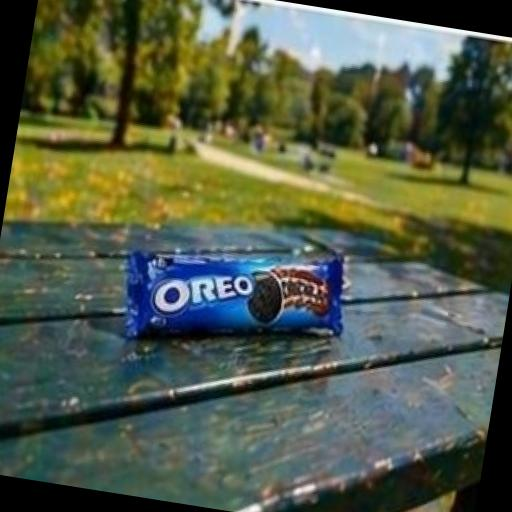oreo: (88, 170, 411, 413)
